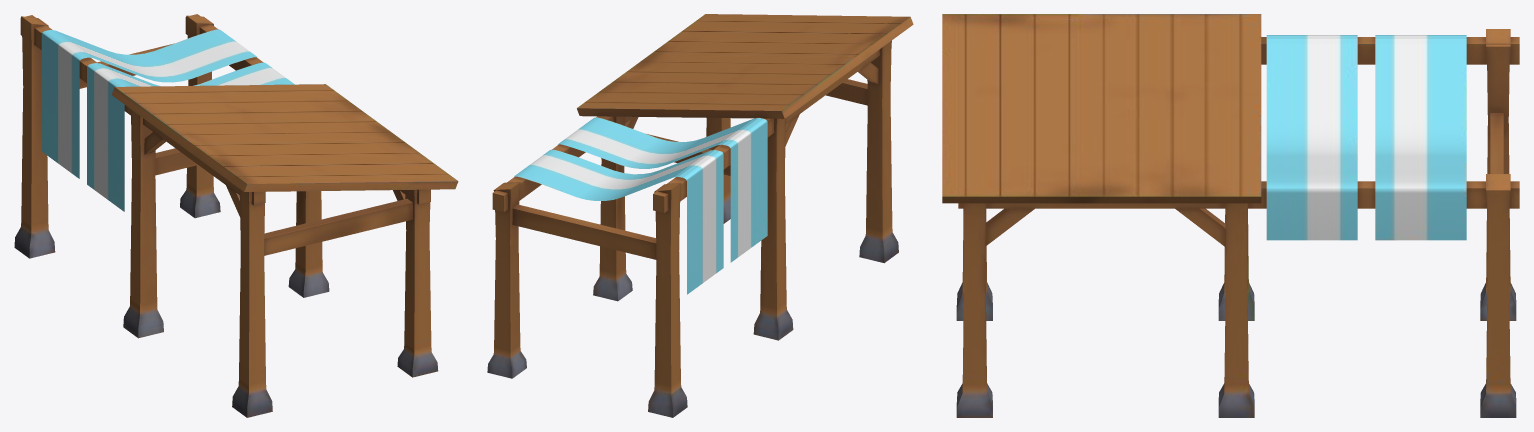
The model's file is SM_WorkSpace.glb.
3 renders of one model, left to right at view 1: azimuth 30°, elevation 25°; view 2: azimuth 150°, elevation 25°; view 3: azimuth 270°, elevation 25°, orthographic. The views are drawn at different scales.
Visible parts, largest first — view 1: SM_WorkSpace; view 2: SM_WorkSpace; view 3: SM_WorkSpace.
Part boxes in pixels (bbox=[...]): SM_WorkSpace: bbox=[14, 14, 458, 417]; SM_WorkSpace: bbox=[487, 14, 913, 417]; SM_WorkSpace: bbox=[942, 14, 1519, 417].
Size of the model in its own units: 341 by 365 by 662.
1 material, 1 textured.
